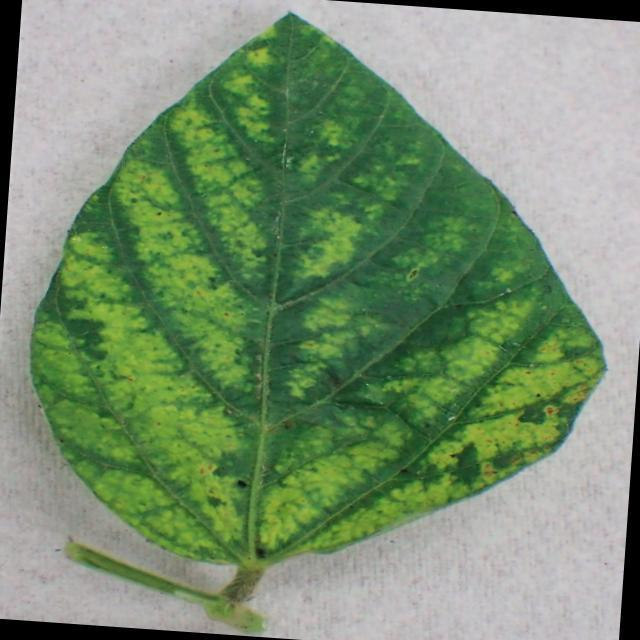Mosaic Virus: (35, 5, 618, 595)
